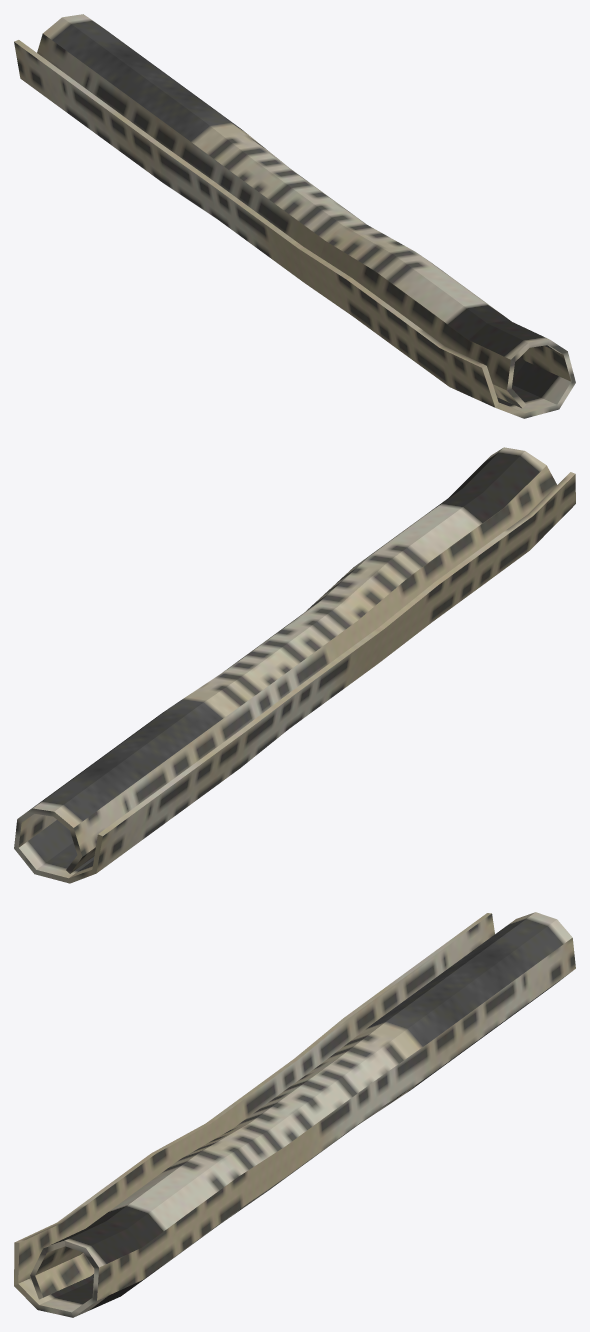
Rendered from NewspaperRolled.fbx.
3 renders of one model, top to bottom at view 1: azimuth 30°, elevation 25°; view 2: azimuth 150°, elevation 25°; view 3: azimuth 330°, elevation 25°, orthographic.
Visible parts, largest first — view 1: NewspaperRolled; view 2: NewspaperRolled; view 3: NewspaperRolled.
Part boxes in pixels (left/top/right/bottom): NewspaperRolled: left=14, top=14, right=575, bottom=418; NewspaperRolled: left=14, top=447, right=575, bottom=883; NewspaperRolled: left=14, top=912, right=575, bottom=1317.
Bounding box in the file's own units: 0.0356 × 0.0322 × 0.3349.
Materials: 1 (1 with a texture image).
